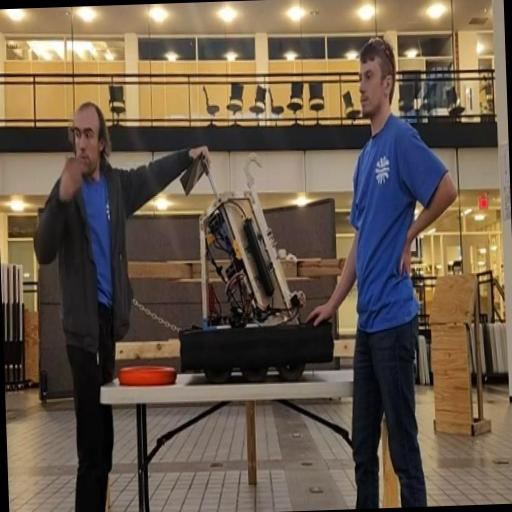robot: (168, 146, 343, 378)
